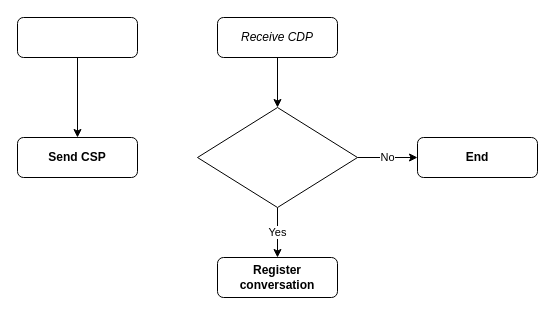
Image size: 555x315. Some labels were removed from this diagram. Each missing label, with the box of its shape:
Are we a member of the conversation ?: (196, 106, 358, 208)
Create new conversation: (16, 16, 138, 58)
